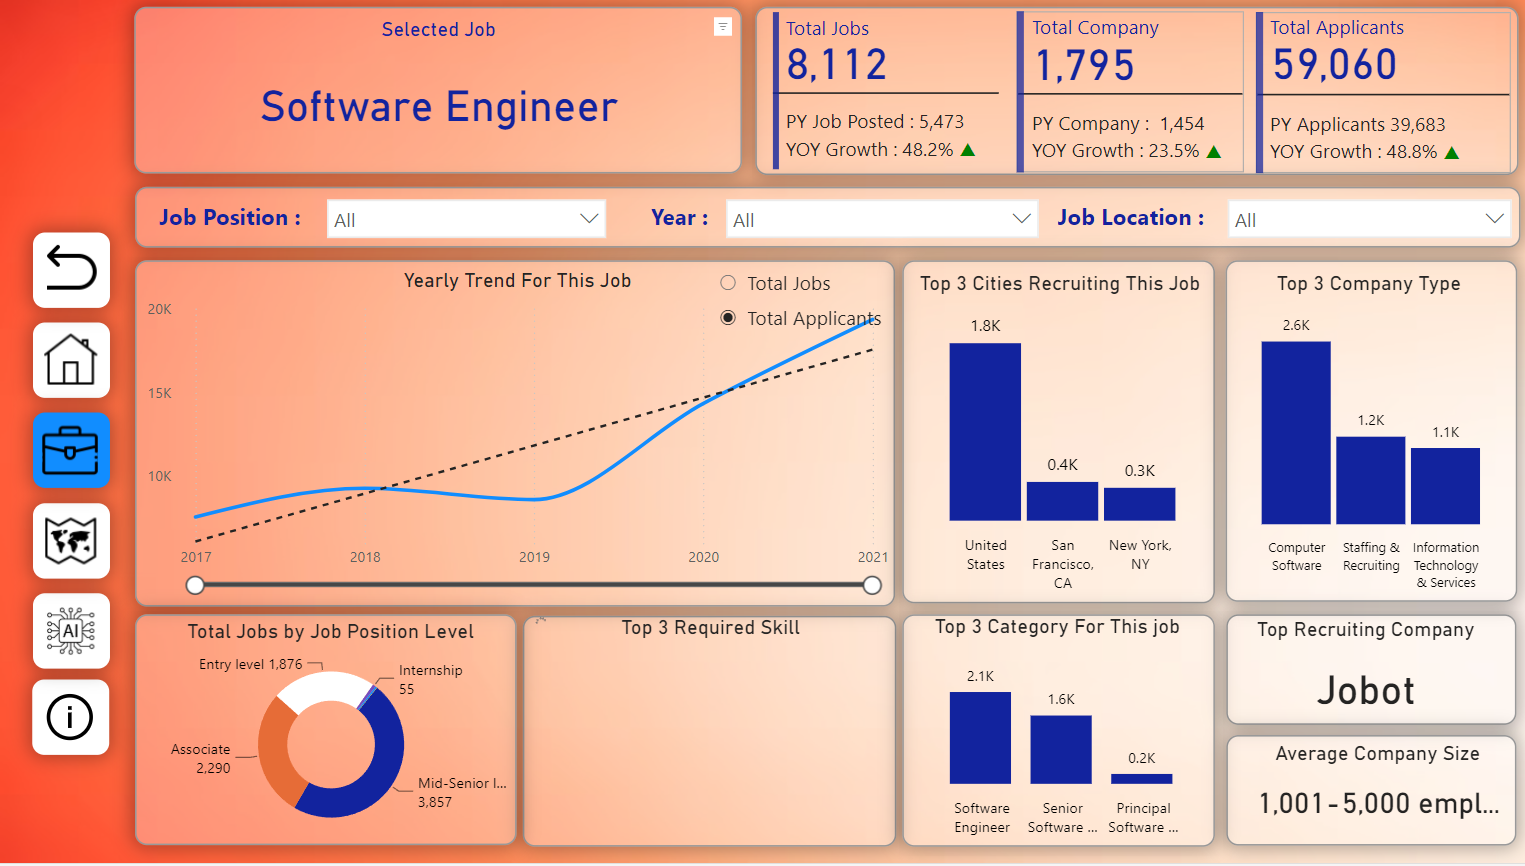

What the dashboard file says about the page in this screenshot:
{"tool":"powerbi","page":{"name":"Specific Jobs","canvas":[1280,720],"ordinal":1},"visuals":[{"type":"slicer","fields":{"Values":["job_postings.Job Position Level"]},"box":[261,158,253,50],"z":0,"group":"g7"},{"type":"slicer","fields":{"Values":["job_postings.Year"]},"box":[593,158,281,50],"z":0,"group":"g9"},{"type":"slicer","fields":{"Values":["job_postings.Job Location"]},"box":[1010,158,257,51],"z":0,"group":"g10"},{"type":"shape","box":[27.3,495.7,63.8,63],"z":0,"group":"g3"},{"type":"shape","box":[434.4,514.4,310,192.2],"z":0},{"type":"shape","box":[27,567.5,63.6,62.7],"z":0,"group":"g1"},{"type":"shape","box":[628,8,634,140],"z":1000},{"type":"textbox","box":[127,165,144,37],"z":1000,"group":"g7"},{"type":"textbox","box":[536,165,68,35],"z":1000,"group":"g9"},{"type":"textbox","box":[874,165,169,40],"z":1000,"group":"g10"},{"type":"shape","box":[27.3,420.8,63.8,63],"z":1000,"group":"g4"},{"type":"actionButton","box":[33.3,574,50,51],"z":1000,"group":"g1"},{"type":"shape","box":[27.3,345.8,63.8,63],"z":2000,"group":"g11"},{"type":"group","id":"g1","title":"Group 15","box":[27,567.5,63.6,62.7],"z":2000},{"type":"cardVisual","fields":{"Data":["_Measure.Total Jobs"]},"box":[637,11.1,198.6,140.1],"z":3000},{"type":"shape","box":[27.3,270.9,63.8,63],"z":3000,"group":"g6"},{"type":"cardVisual","fields":{"Data":["_Measure.Total Company"]},"box":[840,11.7,199.2,142.5],"z":4000},{"type":"shape","box":[27.3,196,63.8,63],"z":4000,"group":"g8"},{"type":"cardVisual","fields":{"Data":["_Measure.Total Aplicants"]},"box":[1038.8,12.5,222.5,140],"z":5000},{"type":"group","id":"g2","title":"Group 7","box":[112,158,1155,51],"z":6000},{"type":"shape","box":[112,158,1152,50],"z":6000,"group":"g2"},{"type":"shape","box":[112.2,218.9,632.2,287.8],"z":7000},{"type":"lineChart","title":"Yearly Trend For This Job","fields":{"Y":["_Measure.Total Applicants"],"Category":["job_postings.Start of Year"]},"box":[117.3,225.3,626.1,274.1],"z":8000},{"type":"shape","box":[750,218.9,260,285.6],"z":9000},{"type":"shape","box":[1019.8,513.4,241.6,91.8],"z":10000},{"type":"shape","box":[1018.9,218.9,242.2,283.3],"z":11000},{"type":"clusteredColumnChart","title":"Top 3 Cities Recruiting This Job","fields":{"Category":["job_postings.Job Location"],"Y":["_Measure.Total Jobs"]},"box":[758.9,227.8,250,274.4],"z":12000},{"type":"shape","box":[111.9,8.1,504.9,139.1],"z":13000,"group":"g5"},{"type":"card","title":"Top Recruiting Company","fields":{"Values":["Min(job_postings.Company Name)"]},"box":[1019.8,515.7,232.3,94.1],"z":13000},{"type":"card","title":"Selected Job","fields":{"Values":["Min(job_postings.Job Title)"]},"box":[120,16.2,489.8,120.9],"z":14000,"group":"g5"},{"type":"columnChart","title":"Top 3 Company Type","fields":{"Y":["_Measure.Total Jobs"],"Category":["job_postings.Company Industry"]},"box":[1020,227.8,241.1,274.4],"z":14000},{"type":"slicer","fields":{"Values":["Parameter 2.Parameter"]},"box":[584.2,218.4,174.2,68.5],"z":15000},{"type":"shape","box":[112.2,513.3,316.7,192.2],"z":16000},{"type":"donutChart","fields":{"Category":["job_postings.Job Position Level"],"Y":["_Measure.Total Jobs"]},"box":[119.9,517,310.4,188.5],"z":17000},{"type":"shape","box":[1019.8,613.3,241.6,91.8],"z":18000},{"type":"group","id":"g3","title":"Group 9","box":[27.3,495.7,63.8,63],"z":19000},{"type":"card","title":"Average Company Size","fields":{"Values":["Min(job_postings.Company Size)"]},"box":[1038.6,618.6,213.5,80.8],"z":20000},{"type":"actionButton","box":[31.3,350.3,58.2,54.1],"z":21000,"group":"g11"},{"type":"group","id":"g4","title":"Group 10","box":[27.3,420.8,63.8,63],"z":21000},{"type":"group","id":"g5","title":"Group 1","box":[111.9,8.1,504.9,139.1],"z":22000},{"type":"image","box":[32.2,201.1,55.6,52.2],"z":22000,"group":"g8"},{"type":"group","id":"g6","title":"Group 12","box":[27.3,270.9,63.8,137.9],"z":23000},{"type":"group","id":"g7","title":"Group 6","box":[127,158,387,50],"z":24000,"group":"g2"},{"type":"group","id":"g8","title":"Group 2","box":[27.3,196,63.8,63],"z":24000},{"type":"actionButton","box":[31.5,425.3,58,54],"z":24000,"group":"g4"},{"type":"group","id":"g9","title":"Group 6","box":[536,158,338,50],"z":25000,"group":"g2"},{"type":"actionButton","box":[31.5,275.2,58,54],"z":25000,"group":"g6"},{"type":"clusteredBarChart","title":"Top 3 Required Skill","fields":{"Category":["skills_tb.Job Skills"],"Y":["CountNonNull(skills_tb.Job Title)"]},"box":[443,513.8,301.3,191.6],"z":25000},{"type":"group","id":"g10","title":"Group 6","box":[874,158,393,51],"z":26000,"group":"g2"},{"type":"actionButton","box":[31.5,500.2,58,54],"z":26000,"group":"g3"},{"type":"shape","box":[750.3,513.4,260.2,192.8],"z":26000},{"type":"columnChart","title":"Top 3 Category For This job","fields":{"Category":["job_postings.Job Title Full"],"Y":["_Measure.Total Jobs"]},"box":[753.8,513.4,255.5,191.7],"z":26001},{"type":"group","id":"g11","title":"Group 11","box":[27.3,345.8,63.8,63],"z":26003,"group":"g6"}]}

Visuals, with their boxes in screenshot pixels (x1, y1, x2, y2), scaled from the page's 1280x720 canvas onto the 1525x866 screenshot:
slicer - job_postings.Job Position Level: crop(311, 190, 612, 250)
slicer - job_postings.Year: crop(707, 190, 1041, 250)
slicer - job_postings.Job Location: crop(1203, 190, 1510, 251)
shape: crop(33, 596, 109, 672)
shape: crop(518, 619, 887, 850)
shape: crop(32, 683, 108, 758)
shape: crop(748, 10, 1504, 178)
textbox: crop(151, 198, 323, 243)
textbox: crop(639, 198, 720, 241)
textbox: crop(1041, 198, 1243, 247)
shape: crop(33, 506, 109, 582)
actionButton: crop(40, 690, 99, 752)
shape: crop(33, 416, 109, 492)
"Group 15" group: crop(32, 683, 108, 758)
cardVisual - _Measure.Total Jobs: crop(759, 13, 996, 182)
shape: crop(33, 326, 109, 402)
cardVisual - _Measure.Total Company: crop(1001, 14, 1238, 185)
shape: crop(33, 236, 109, 312)
cardVisual - _Measure.Total Aplicants: crop(1238, 15, 1503, 183)
"Group 7" group: crop(133, 190, 1510, 251)
shape: crop(133, 190, 1506, 250)
shape: crop(134, 263, 887, 609)
"Yearly Trend For This Job" lineChart: crop(140, 271, 886, 601)
shape: crop(894, 263, 1203, 607)
shape: crop(1215, 618, 1503, 728)
shape: crop(1214, 263, 1502, 604)
"Top 3 Cities Recruiting This Job" clusteredColumnChart: crop(904, 274, 1202, 604)
shape: crop(133, 10, 735, 177)
"Top Recruiting Company" card: crop(1215, 620, 1492, 733)
"Selected Job" card: crop(143, 19, 727, 165)
"Top 3 Company Type" columnChart: crop(1215, 274, 1502, 604)
slicer - Parameter 2.Parameter: crop(696, 263, 904, 345)
shape: crop(134, 617, 511, 849)
donutChart - job_postings.Job Position Level x _Measure.Total Jobs: crop(143, 622, 513, 849)
shape: crop(1215, 738, 1503, 848)
"Group 9" group: crop(33, 596, 109, 672)
"Average Company Size" card: crop(1237, 744, 1492, 841)
actionButton: crop(37, 421, 107, 486)
"Group 10" group: crop(33, 506, 109, 582)
"Group 1" group: crop(133, 10, 735, 177)
image: crop(38, 242, 105, 305)
"Group 12" group: crop(33, 326, 109, 492)
"Group 6" group: crop(151, 190, 612, 250)
"Group 2" group: crop(33, 236, 109, 312)
actionButton: crop(38, 512, 107, 576)
"Group 6" group: crop(639, 190, 1041, 250)
actionButton: crop(38, 331, 107, 396)
"Top 3 Required Skill" clusteredBarChart: crop(528, 618, 887, 848)
"Group 6" group: crop(1041, 190, 1510, 251)
actionButton: crop(38, 602, 107, 667)
shape: crop(894, 618, 1204, 849)
"Top 3 Category For This job" columnChart: crop(898, 618, 1202, 848)
"Group 11" group: crop(33, 416, 109, 492)
